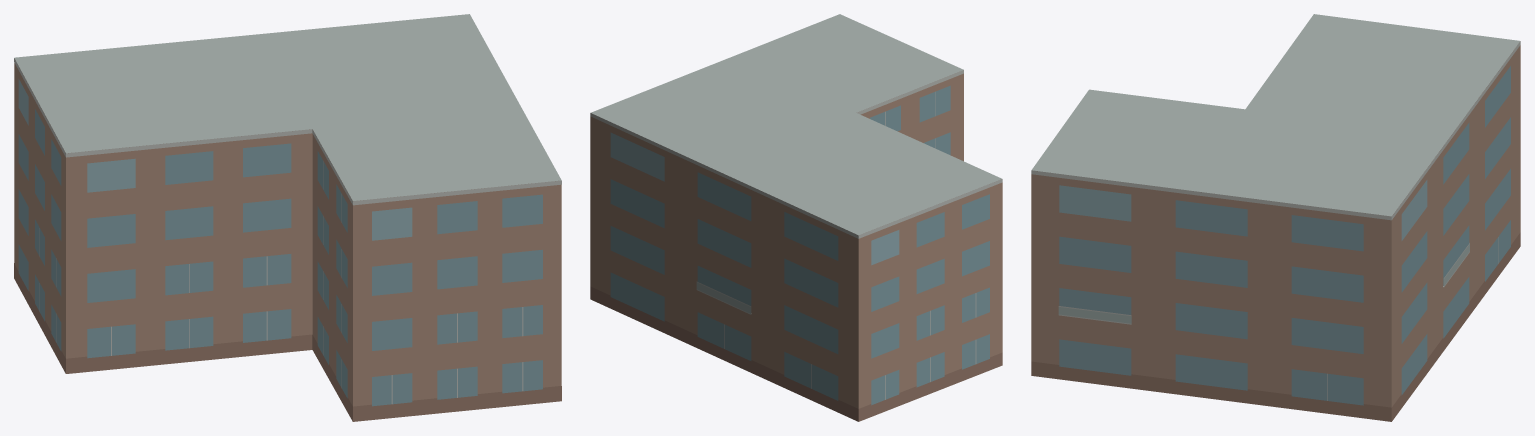
Rendered from survey-upis-32873642.glb.
3 views of the same model, side by side, from view 1: azimuth 30°, elevation 25°; view 2: azimuth 150°, elevation 25°; view 3: azimuth 270°, elevation 25° (orthographic). The views are drawn at different scales.
Parts seen in each view (by area): view 1: survey-upis-32873642.tmp; view 2: survey-upis-32873642.tmp; view 3: survey-upis-32873642.tmp.
Part boxes in pixels (box(x1,y1,x2,y2)): survey-upis-32873642.tmp: box(14, 14, 561, 421); survey-upis-32873642.tmp: box(590, 14, 1002, 421); survey-upis-32873642.tmp: box(1031, 14, 1520, 421).
Size of the model in its own units: 27.05 by 12.8 by 27.63.
